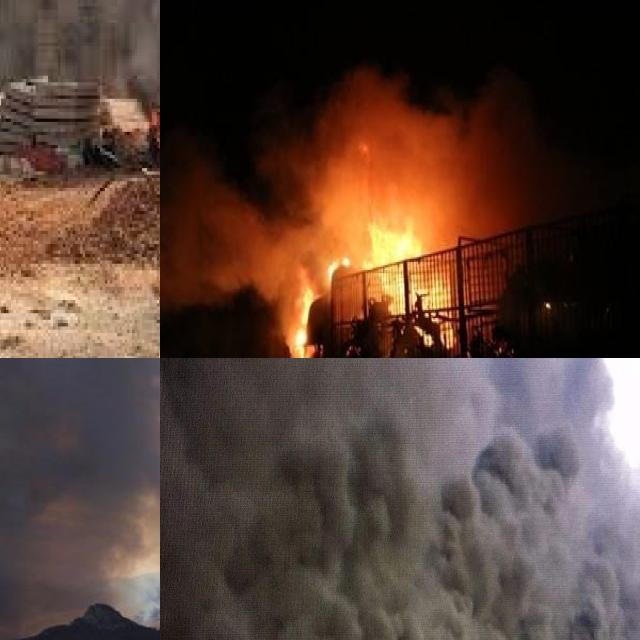fire: (279, 212, 561, 358)
smoke: (160, 358, 640, 640), (160, 71, 518, 300), (0, 358, 160, 640)
